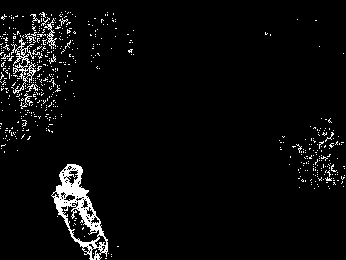person: (48, 163, 112, 260)
